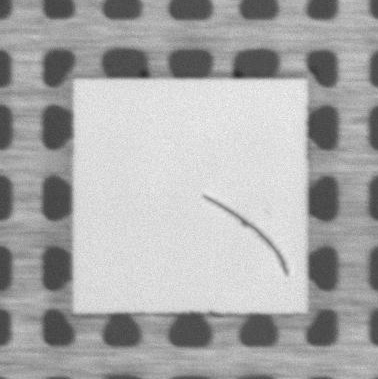DIE_INK: (200, 194, 288, 275)
